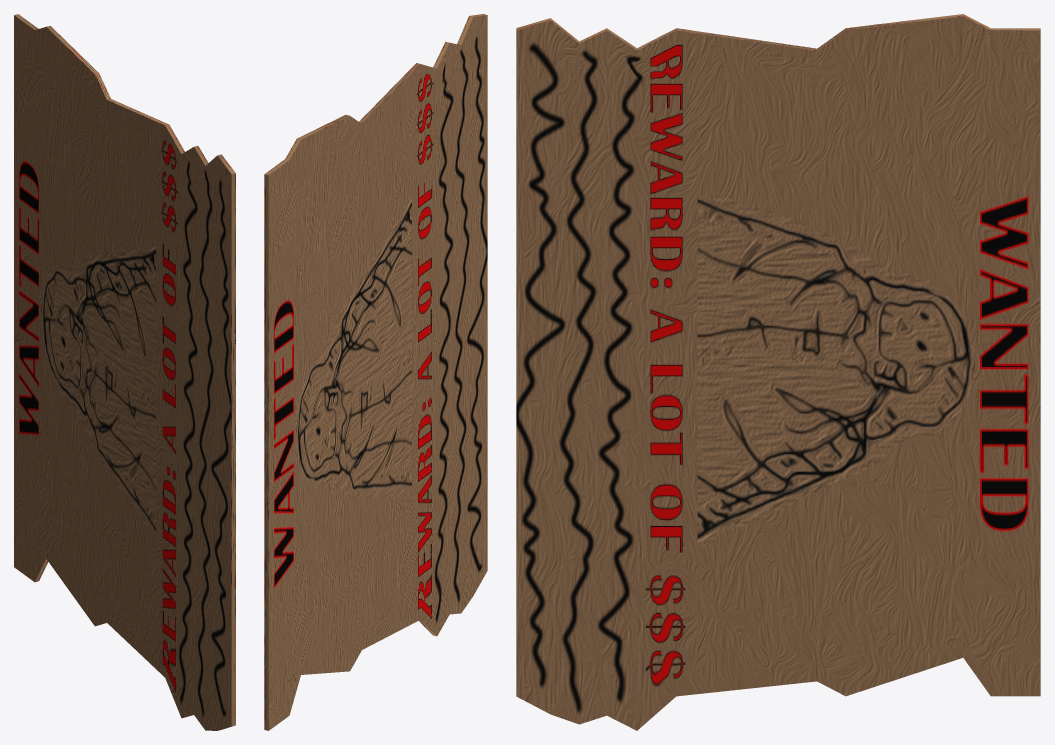
File: OpenScroll.fbx
3 renders of one model, left to right at view 1: azimuth 30°, elevation 25°; view 2: azimuth 150°, elevation 25°; view 3: azimuth 270°, elevation 25°, orthographic. The views are drawn at different scales.
Visible parts, largest first — view 1: OpenScroll; view 2: OpenScroll; view 3: OpenScroll.
Part boxes in pixels (bbox=[...]): OpenScroll: bbox=[14, 14, 235, 730]; OpenScroll: bbox=[264, 14, 487, 730]; OpenScroll: bbox=[516, 14, 1040, 730].
Bounding box in the file's own units: 0.7946 × 104 × 69.3.
1 material, 1 textured.
